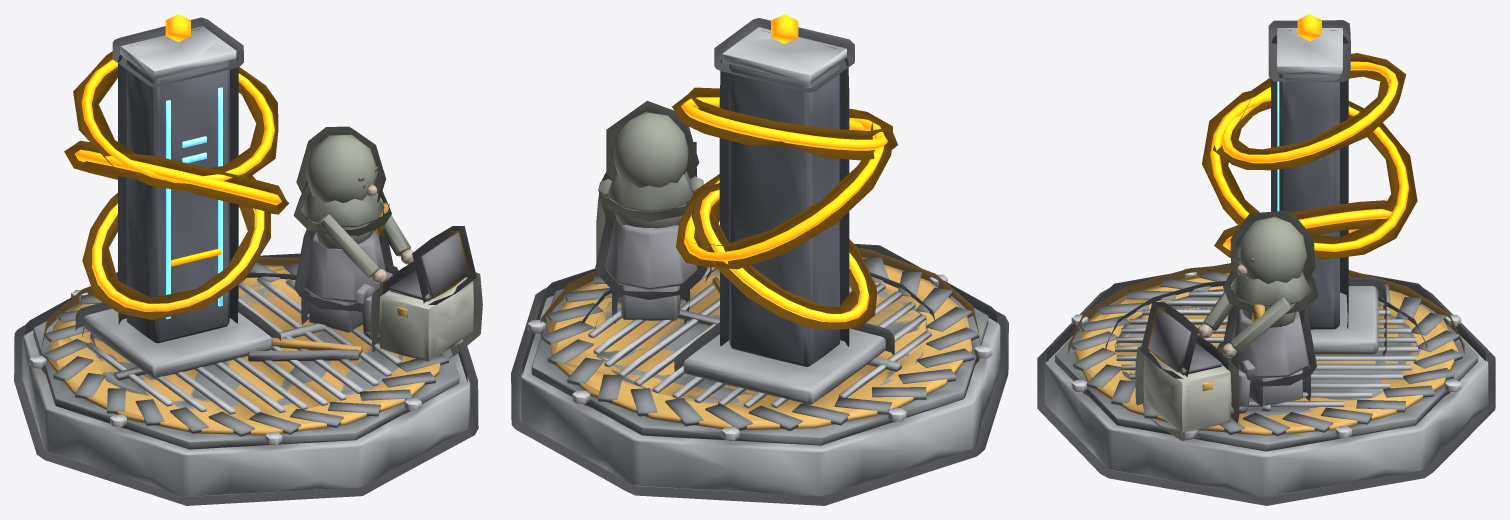
The model's file is firewall.glb.
3 views of the same model, side by side, from view 1: azimuth 30°, elevation 25°; view 2: azimuth 150°, elevation 25°; view 3: azimuth 270°, elevation 25° (orthographic). The views are drawn at different scales.
Parts seen in each view (by area): view 1: M_Firewall, M_Yaw, M_Orb_Outline, M_Body, M_Hacker, M_Orb, M_Firewall_Outline, M_Yaw_Outline, M_Body_Outline, M_Hacker_Outline, M_HackerArm; view 2: M_Firewall, M_Yaw, M_Orb_Outline, M_Body, M_Firewall_Outline, M_Orb, M_Yaw_Outline, M_Body_Outline, M_Hacker, M_Hacker_Outline; view 3: M_Firewall, M_Yaw, M_Orb_Outline, M_Firewall_Outline, M_Body, M_Hacker, M_Orb, M_Yaw_Outline, M_Body_Outline, M_Hacker_Outline, M_HackerArm.
Part boxes in pixels (x1,y1,x2,y2): M_Firewall: (22, 262, 470, 496); M_Yaw: (84, 26, 272, 378); M_Orb_Outline: (64, 51, 289, 319); M_Body: (301, 134, 392, 339); M_Hacker: (309, 232, 473, 361); M_Orb: (74, 14, 281, 311); M_Firewall_Outline: (14, 253, 478, 505); M_Yaw_Outline: (75, 17, 280, 347); M_Body_Outline: (293, 126, 398, 312); M_Hacker_Outline: (301, 226, 482, 358); M_HackerArm: (318, 197, 413, 283); M_Firewall: (519, 257, 1000, 496); M_Yaw: (683, 27, 885, 404); M_Orb_Outline: (672, 87, 897, 329); M_Body: (605, 112, 697, 290); M_Firewall_Outline: (511, 244, 1008, 505); M_Orb: (681, 14, 888, 322); M_Yaw_Outline: (674, 18, 894, 371); M_Body_Outline: (595, 100, 706, 299); M_Hacker: (604, 214, 680, 320); M_Hacker_Outline: (596, 142, 711, 323); M_Firewall: (1044, 268, 1488, 497); M_Yaw: (1276, 28, 1378, 354); M_Orb_Outline: (1202, 53, 1417, 259); M_Firewall_Outline: (1037, 263, 1495, 505); M_Body: (1223, 216, 1310, 415); M_Hacker: (1143, 308, 1302, 432); M_Orb: (1210, 14, 1409, 251); M_Yaw_Outline: (1268, 20, 1386, 355); M_Body_Outline: (1217, 210, 1318, 387); M_Hacker_Outline: (1135, 301, 1310, 440); M_HackerArm: (1198, 277, 1291, 357).
Bounding box in the file's own units: 3.18 × 2.88 × 3.18.
